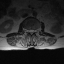CCS_normal: (30, 27, 32, 36)
LFS_normal: (35, 27, 37, 34)
LLS_normal: (32, 26, 35, 34)
RFS_normal: (26, 26, 28, 34)
RLS_normal: (28, 27, 30, 34)
